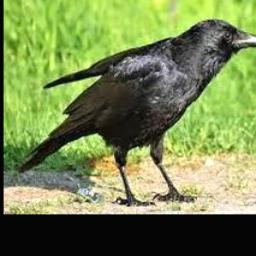Crow: (19, 19, 256, 207)
